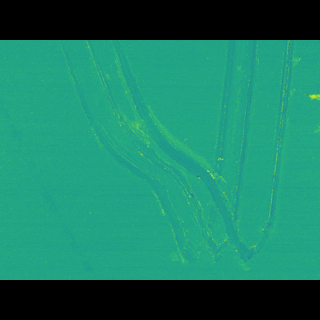Loch: (57, 68, 299, 242), (0, 107, 102, 250)
